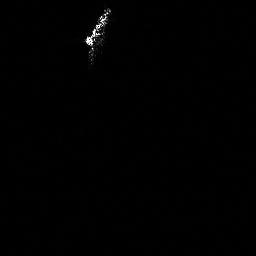ship: (81, 4, 114, 66)
